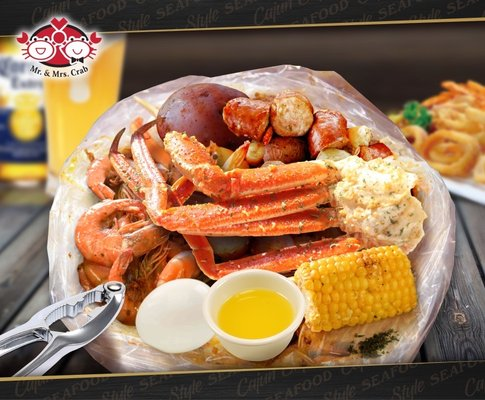sandwich: (0, 281, 125, 379)
soup: (292, 245, 420, 363)
sushi: (202, 269, 306, 363)
